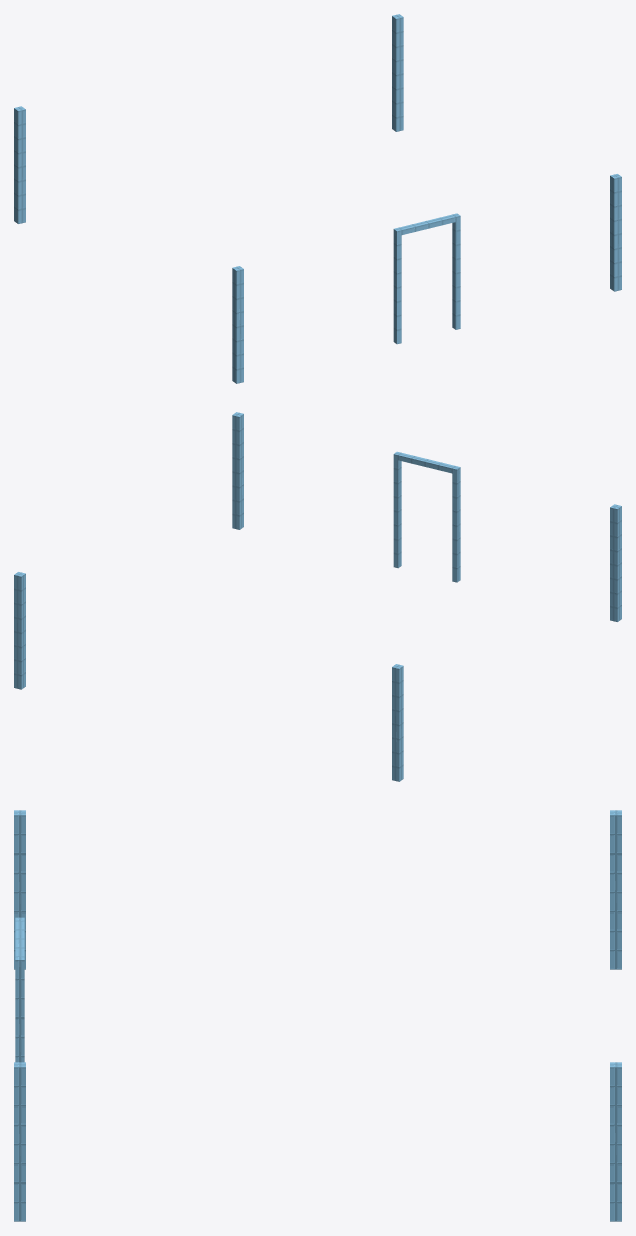
The model's file is accent-2.glb.
3 renders of one model, top to bottom at view 1: azimuth 30°, elevation 25°; view 2: azimuth 150°, elevation 25°; view 3: azimuth 270°, elevation 25°, orthographic. The views are drawn at different scales.
Visible parts, largest first — view 1: accent-2; view 2: accent-2; view 3: accent-2.
Boxes of the visible parts, x1,y1,x2,y2 form: accent-2: [14, 14, 621, 383]; accent-2: [14, 412, 621, 781]; accent-2: [14, 810, 621, 1221].
Bounding box in the file's own units: 14.28 × 4 × 14.28.
Materials: 1 (1 with a texture image).
